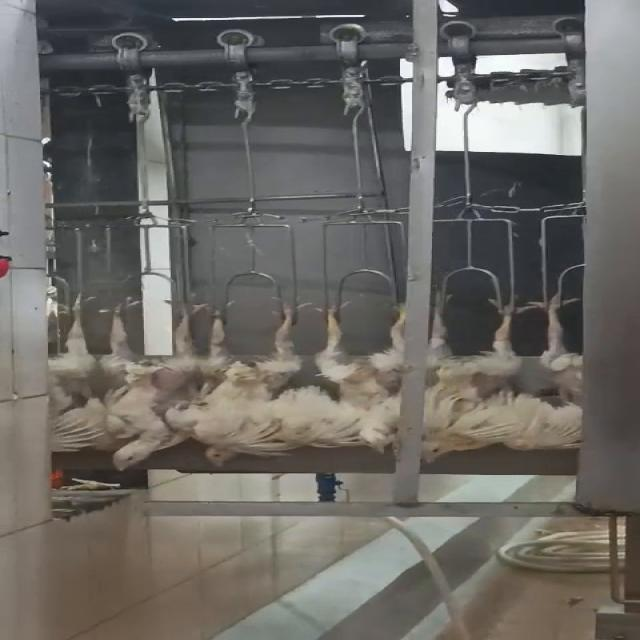chicken: (181, 298, 312, 474), (407, 296, 533, 466), (94, 296, 198, 476), (307, 295, 418, 457), (519, 284, 589, 454), (43, 284, 101, 462)
